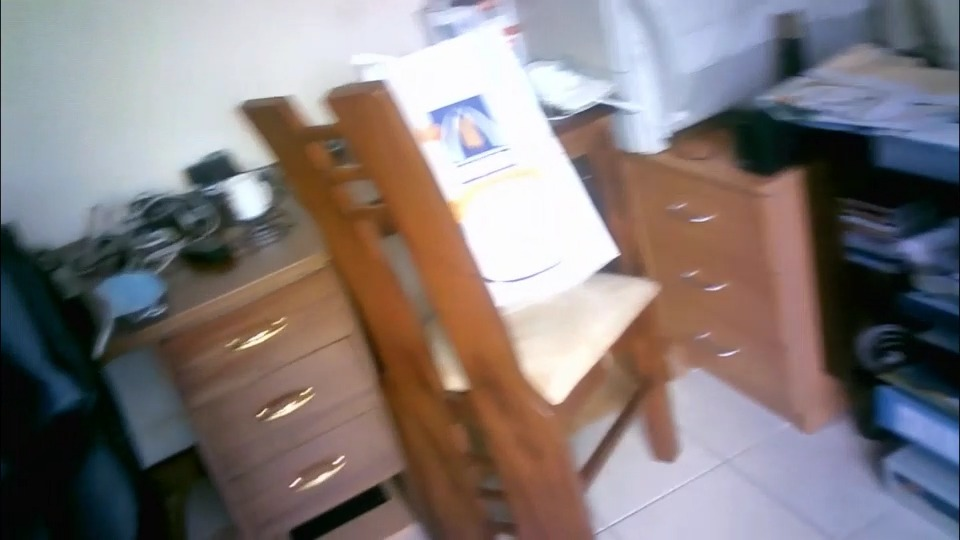wheat_flour_blue_label: (379, 17, 620, 324)
